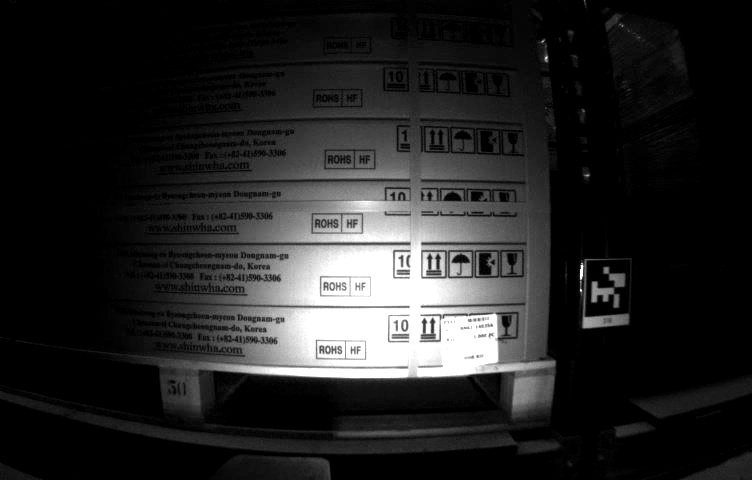True Barcode: (441, 312, 498, 369)
